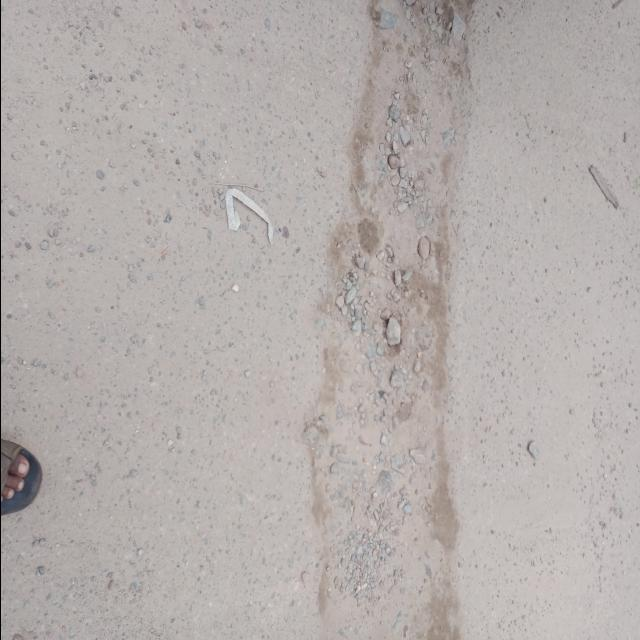potholes: (304, 5, 477, 640)
